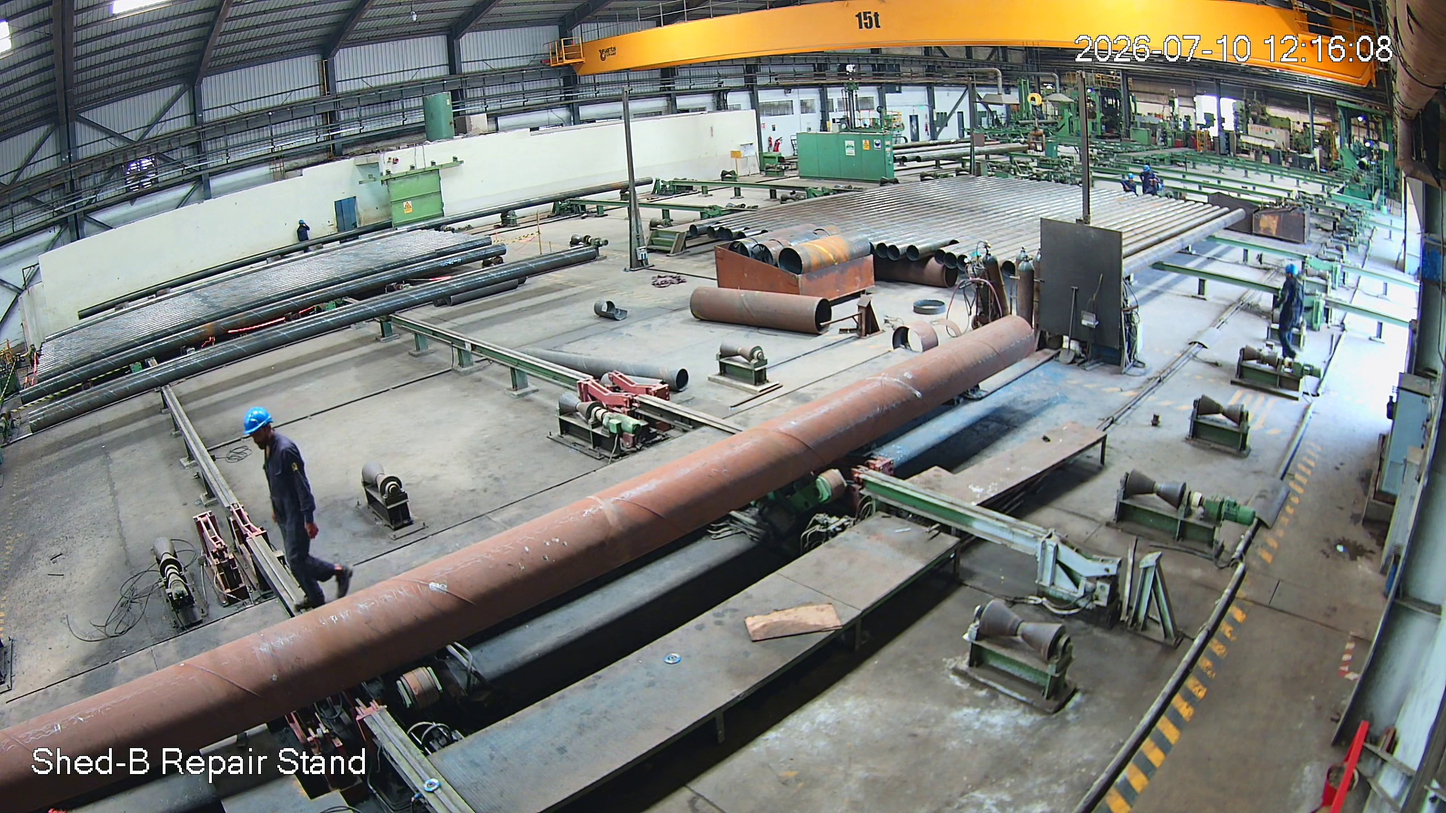Helmet: (239, 404, 290, 463), (1284, 260, 1306, 285)
Person: (229, 411, 365, 614), (1270, 262, 1303, 367)
